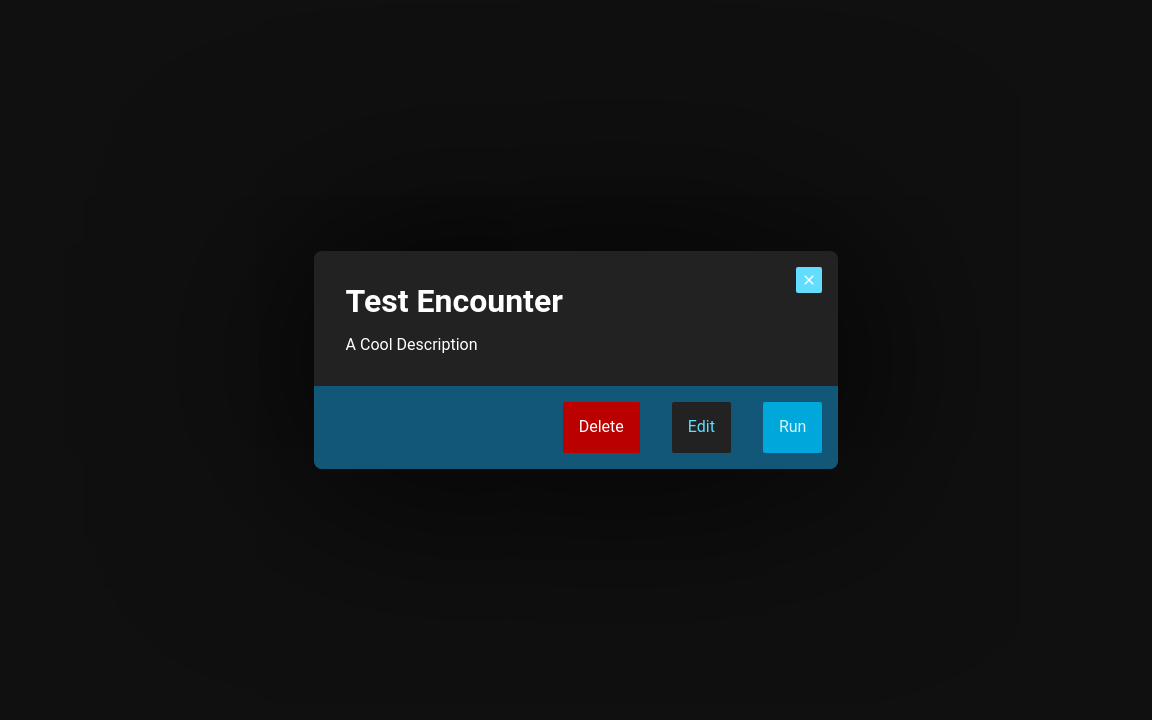
Scenario: Select Encounter Modal › should open a confirmation dialog when the delete button is clicked
Expected: the text "Are you sure you want to delete Test Encounter?" is not shown
Click the button labelled "Delete" at (601, 428), box x1=563 y1=402 x2=640 y2=453
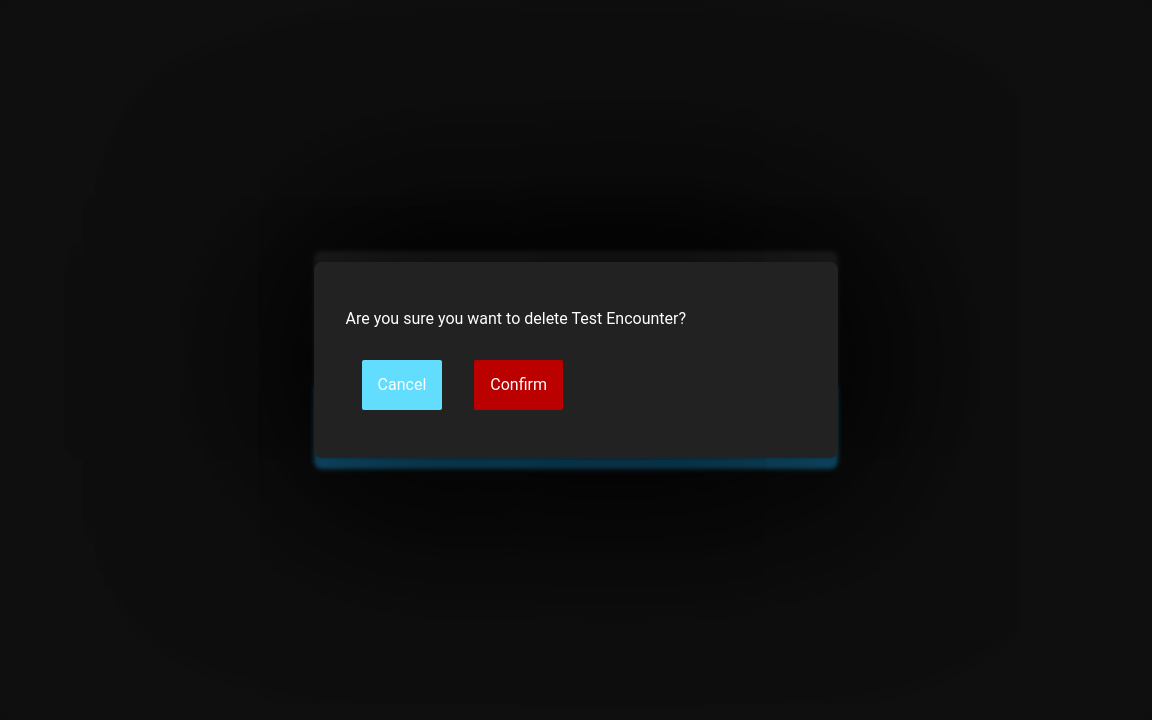
Expected: the text "Are you sure you want to delete Test Encounter?" is shown, x1=346 y1=309 x2=686 y2=328
